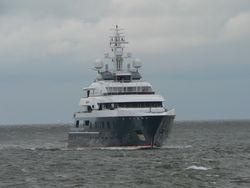yacht: (66, 24, 180, 151)
